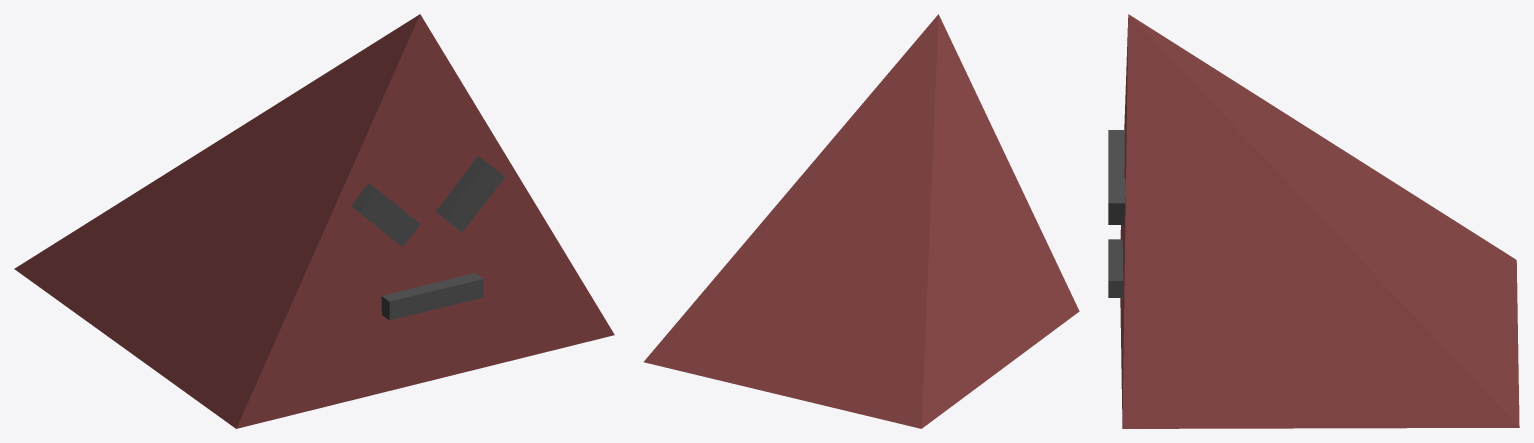
The model's file is Enemy.fbx.
The picture shows the model from 3 angles, left to right: view 1: azimuth 30°, elevation 25°; view 2: azimuth 150°, elevation 25°; view 3: azimuth 270°, elevation 25°; orthographic projection. The views are drawn at different scales.
Parts seen in each view (by area): view 1: pPyramid1, pCube3, pCube2, pCube1; view 2: pPyramid1; view 3: pPyramid1, pCube3, pCube1, pCube2.
Boxes of the visible parts, x1,y1,x2,y2 form: pPyramid1: (14, 14, 614, 428); pCube3: (381, 273, 483, 320); pCube2: (436, 156, 504, 232); pCube1: (351, 183, 420, 246); pPyramid1: (643, 14, 1079, 428); pPyramid1: (1120, 14, 1519, 428); pCube3: (1108, 239, 1123, 297); pCube1: (1108, 130, 1124, 178); pCube2: (1108, 178, 1125, 224).
Size of the model in its own units: 1.57 by 1.43 by 1.62.
